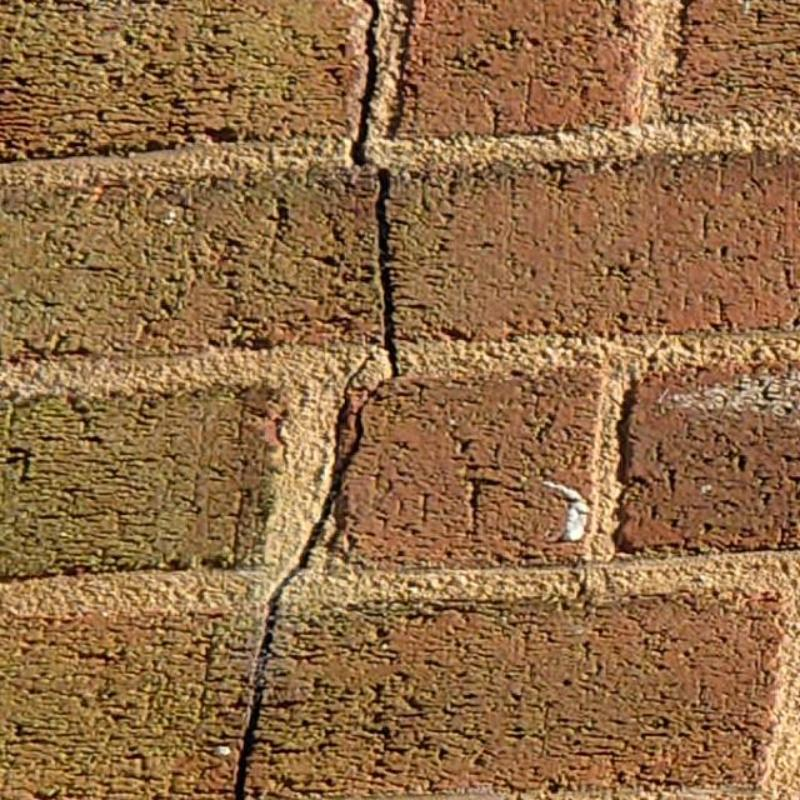pothole: (258, 355, 371, 658), (349, 1, 381, 168), (375, 169, 399, 376), (235, 701, 262, 799)
